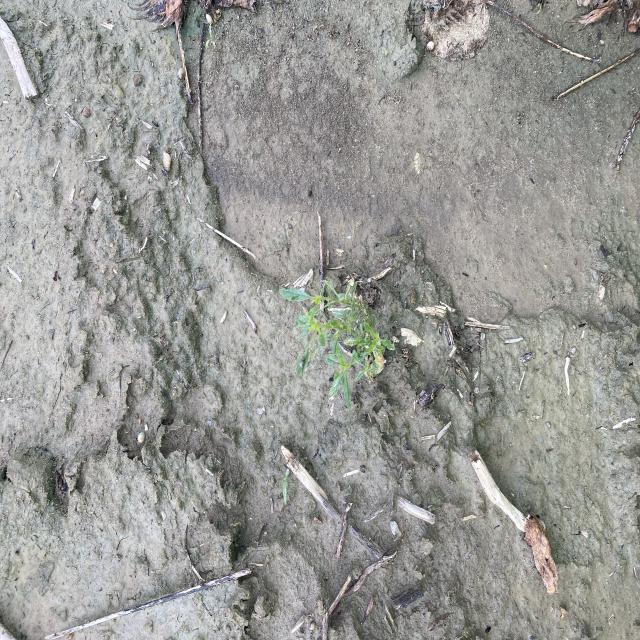Waterhemp: (277, 278, 398, 412)
